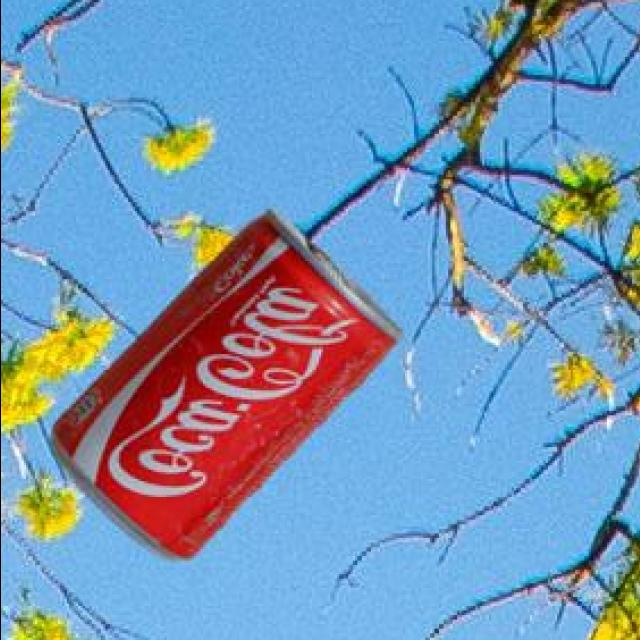logam: (53, 214, 405, 562)
